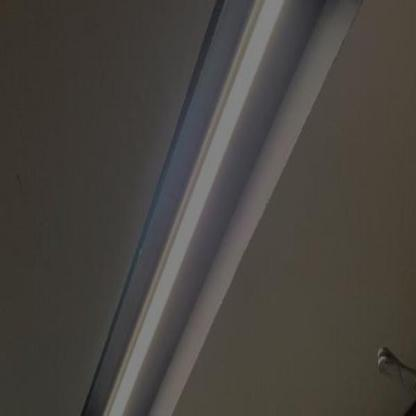light_on: (85, 0, 325, 415)
